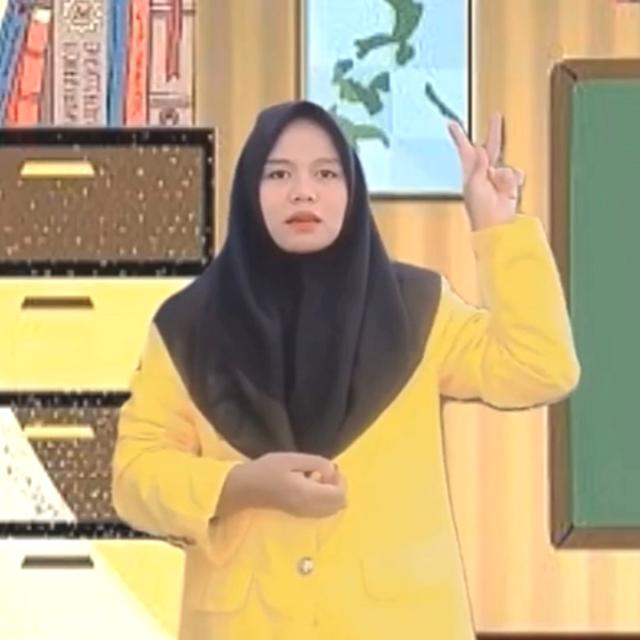K: (441, 104, 519, 218)
